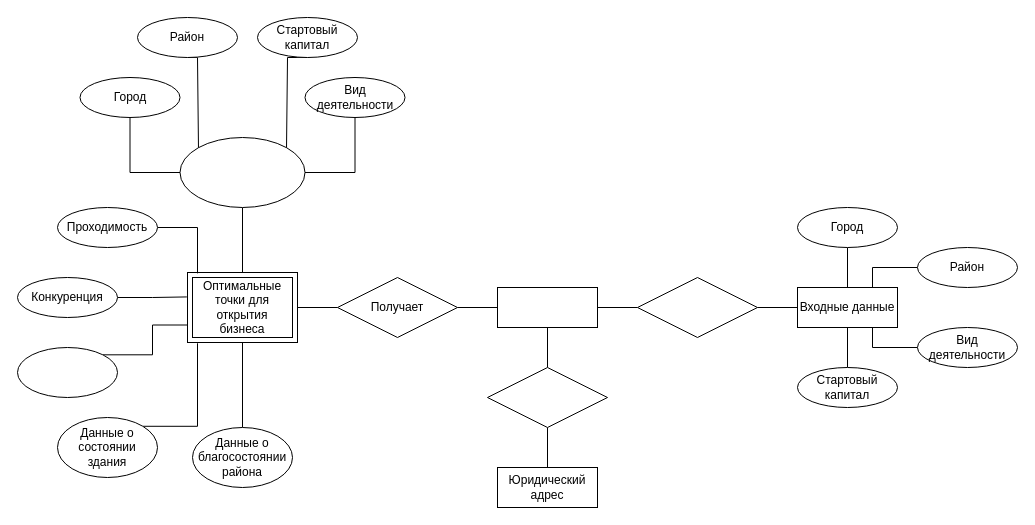
The diagram is 1035 pixels wide and 525 high, and some of its shapes have lost their labels. The centre of each missing label's shape, as x and y in pixels:
"Выбирает" goes at point 547,397.
"Данные об аренде" goes at point 67,372.
"Информация, указанная пользователем" goes at point 242,172.
"Пользователь" goes at point 547,307.
"Указывает" goes at point 697,307.
